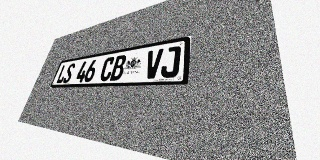4: (75, 61, 90, 83)
6: (83, 59, 99, 82)
B: (109, 54, 127, 81)
C: (99, 56, 116, 81)
J: (160, 45, 181, 78)
L: (55, 64, 69, 84)
S: (62, 63, 76, 83)
V: (143, 48, 163, 79)
